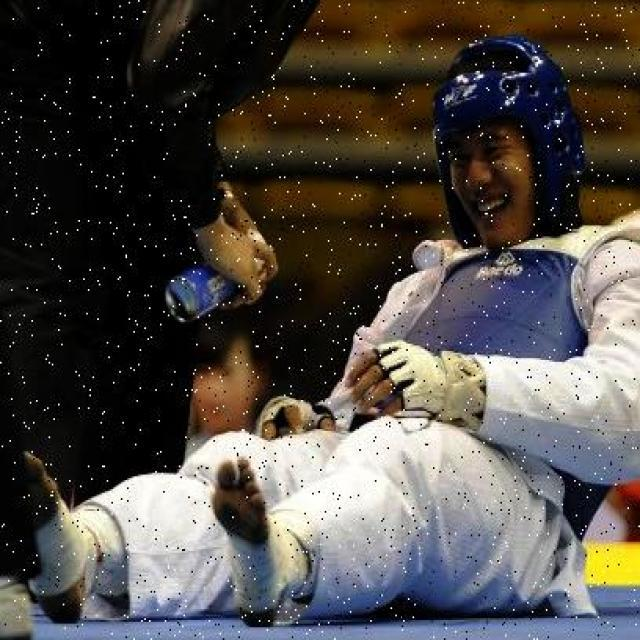fall: (54, 62, 638, 626)
